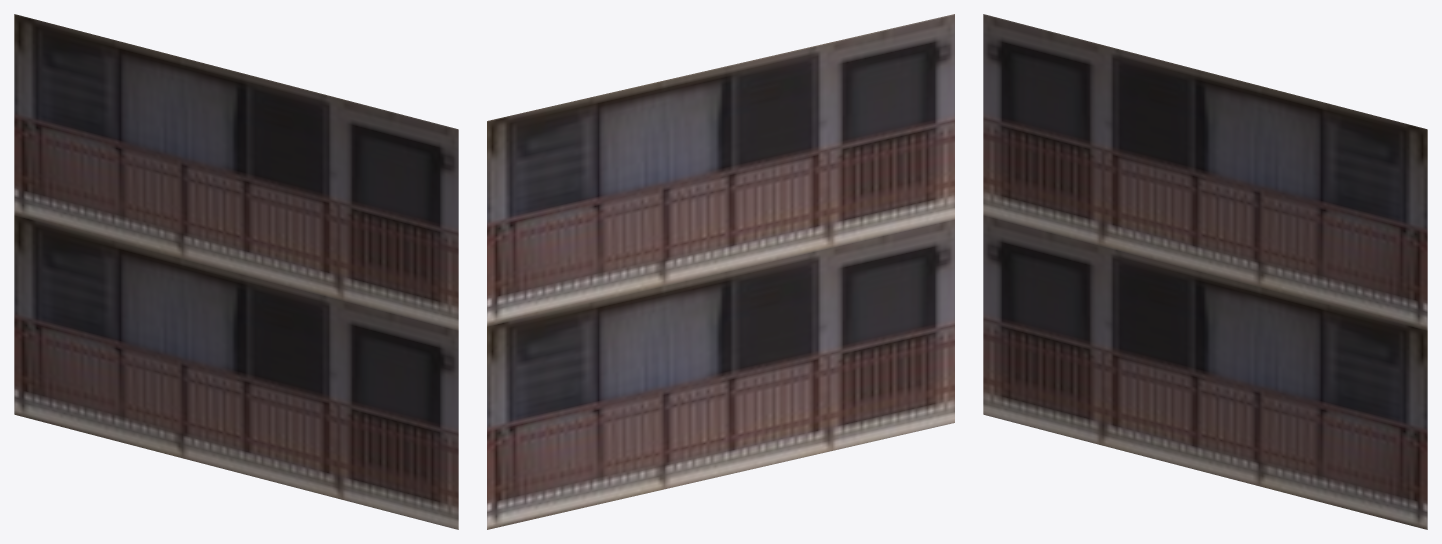
Rendered from ResTex__3794.fbx.
The picture shows the model from 3 angles, left to right: view 1: azimuth 90°, elevation 25°; view 2: azimuth 150°, elevation 25°; view 3: azimuth 270°, elevation 25°; orthographic projection. The views are drawn at different scales.
Visible parts, largest first — view 1: CityEngineMaterial_6_m; view 2: CityEngineMaterial_6_m; view 3: CityEngineMaterial_6_m.
Part boxes in pixels (x1,y1,x2,y2): CityEngineMaterial_6_m: (14, 14, 458, 529); CityEngineMaterial_6_m: (487, 14, 954, 529); CityEngineMaterial_6_m: (983, 14, 1427, 529).
Size of the model in its own units: 3.7 by 6 by 6.03.
Materials: 1 (1 with a texture image).
